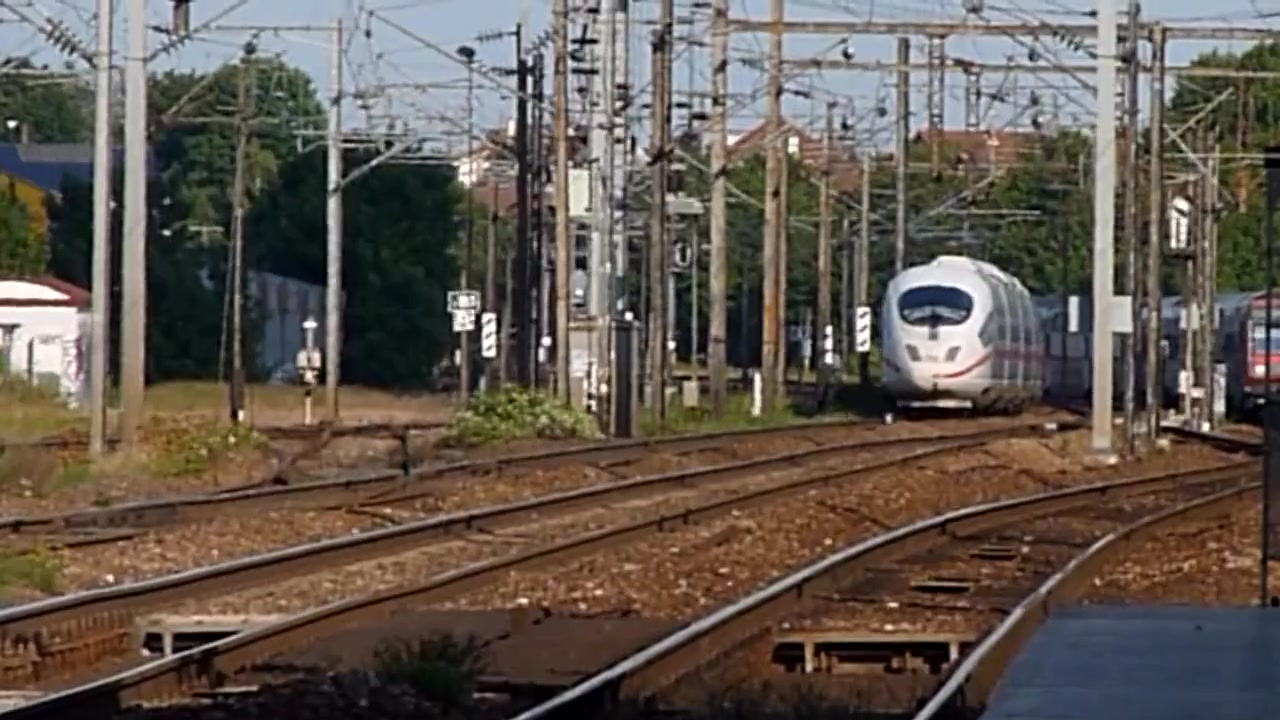train: (868, 253, 1055, 415)
